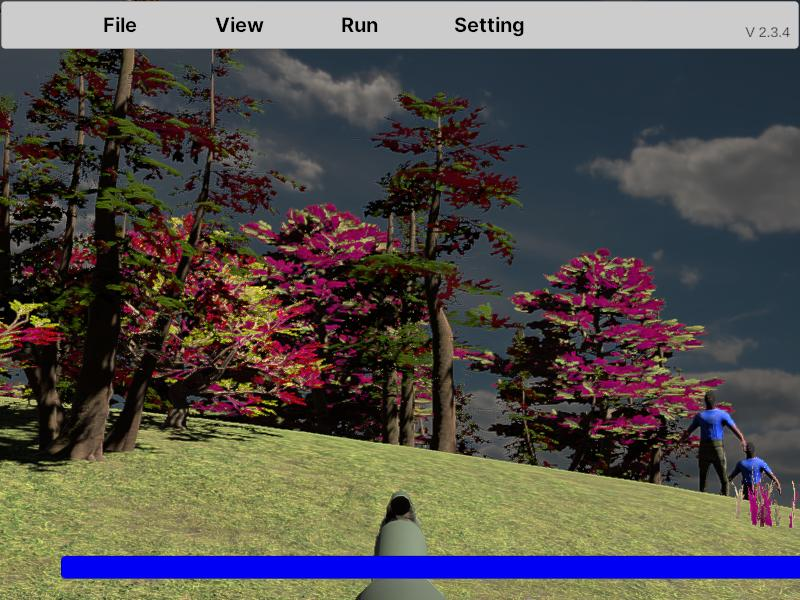Human: (680, 391, 747, 505), (723, 440, 782, 535)
